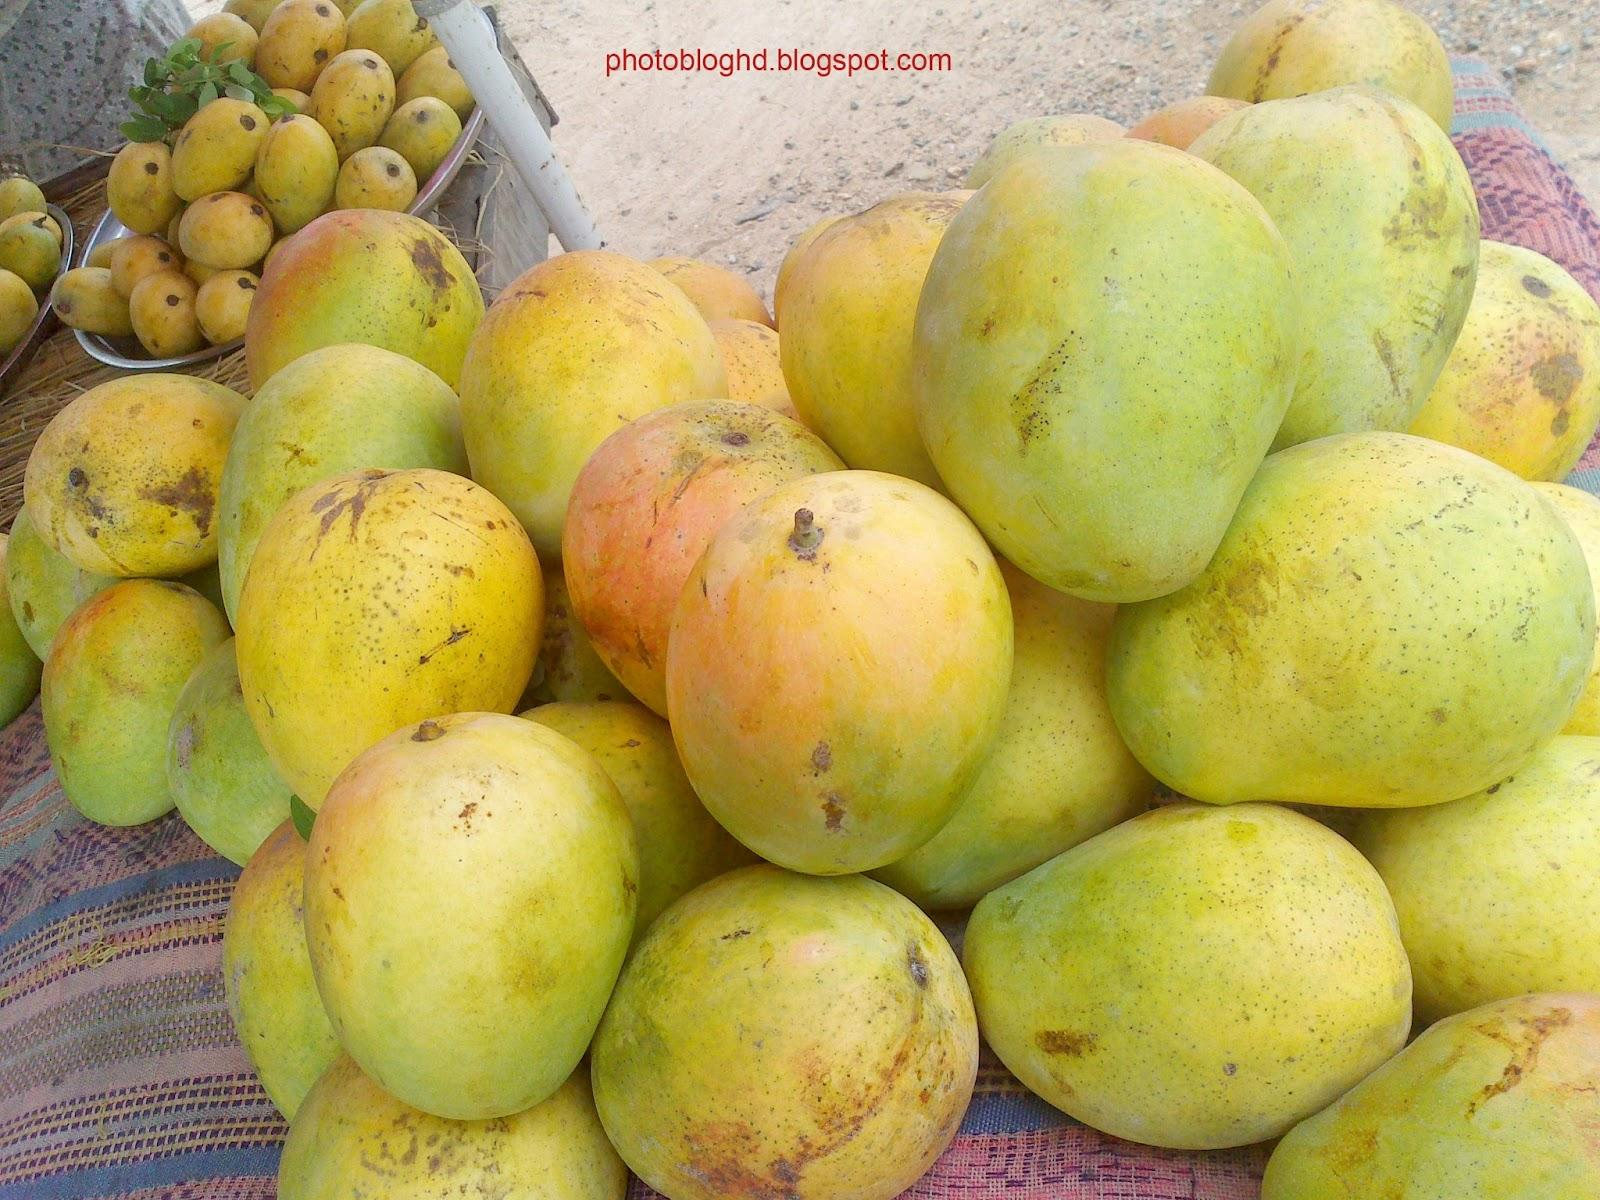mango: (1120, 426, 1600, 824), (910, 135, 1286, 620), (960, 778, 1426, 1139), (660, 463, 1032, 886), (315, 701, 632, 1128), (587, 858, 981, 1200)
